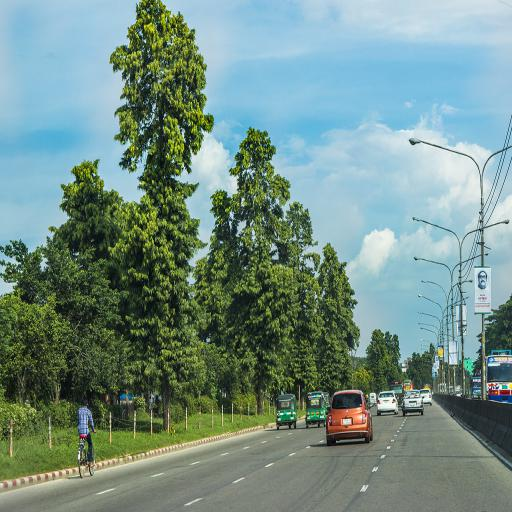ambulance: (389, 382, 405, 399)
bicycle: (75, 434, 97, 479)
bus: (486, 349, 512, 403), (470, 373, 482, 400)
car: (326, 391, 374, 445), (401, 389, 426, 417), (376, 390, 399, 415), (424, 385, 434, 408)
three wheelers (CNG): (305, 388, 327, 427), (275, 393, 297, 431)
